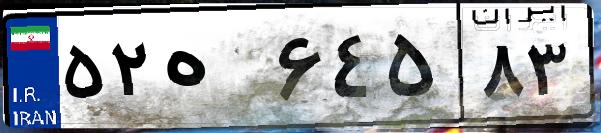2: (110, 28, 158, 98)
3: (525, 38, 570, 115)
4: (330, 28, 385, 110)
5: (385, 28, 445, 110), (57, 26, 110, 100)
6: (270, 28, 330, 110)
8: (475, 38, 525, 113)
ه: (158, 20, 270, 120)
